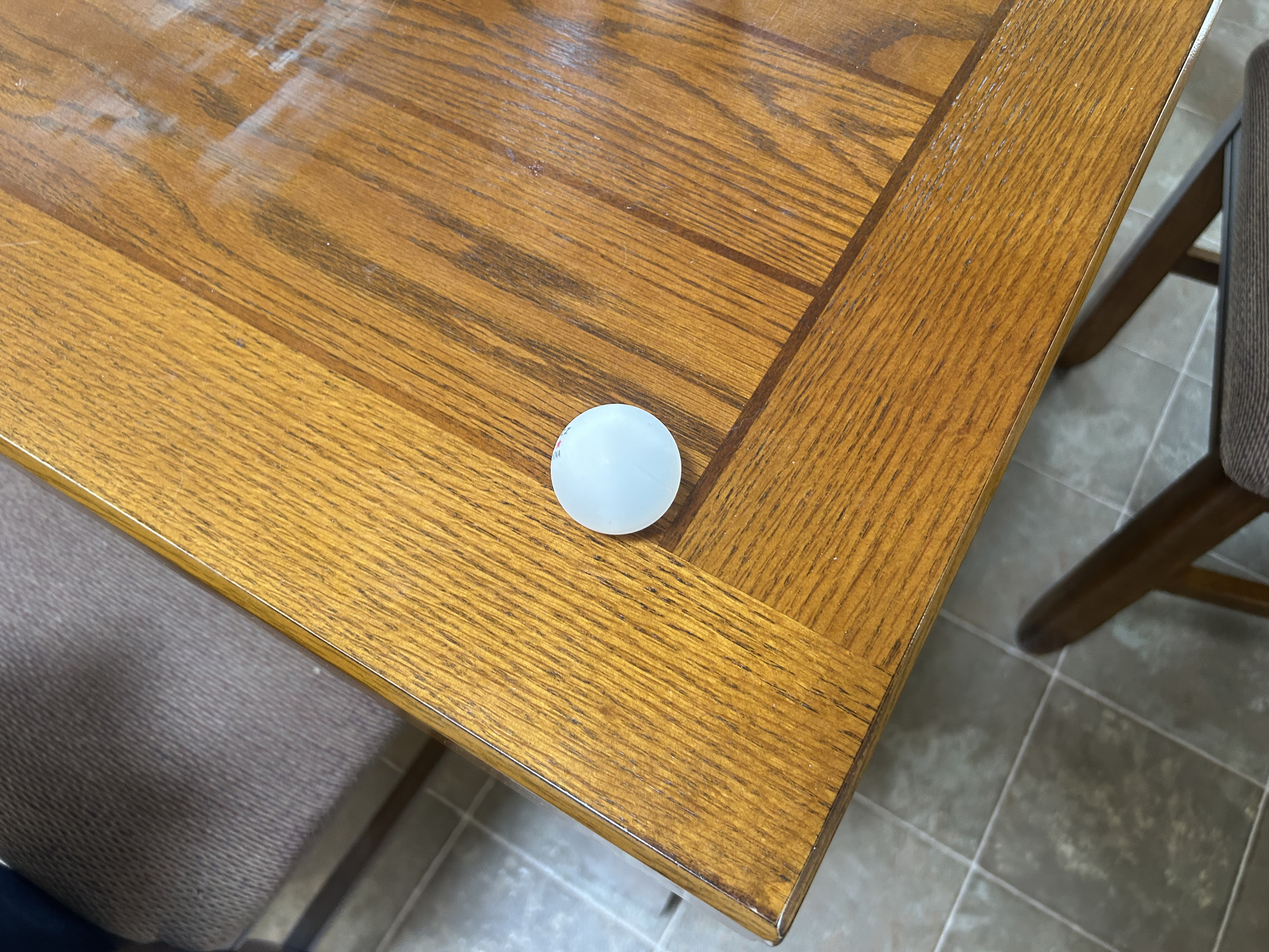Ball: (539, 391, 686, 529)
